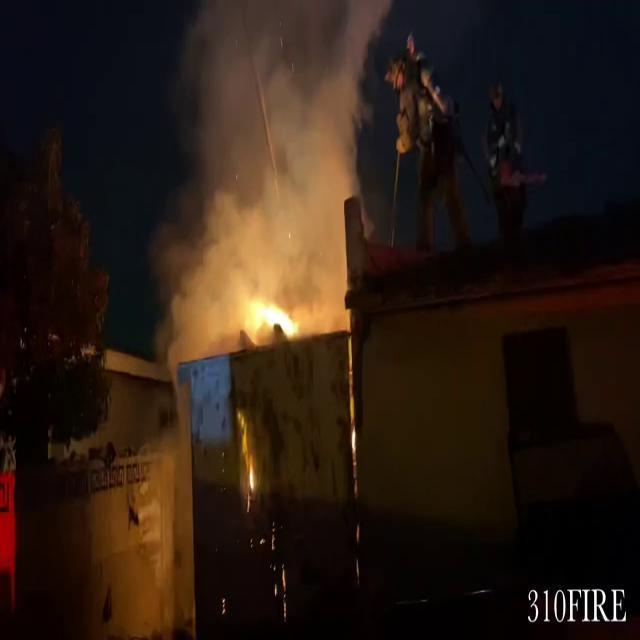Fire: (237, 278, 301, 352)
Smoke: (142, 1, 388, 360)
